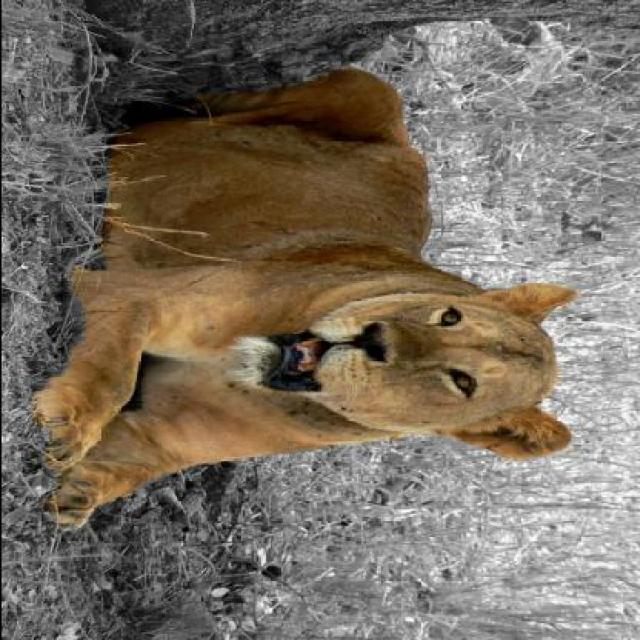Lion: (1, 52, 598, 526)
